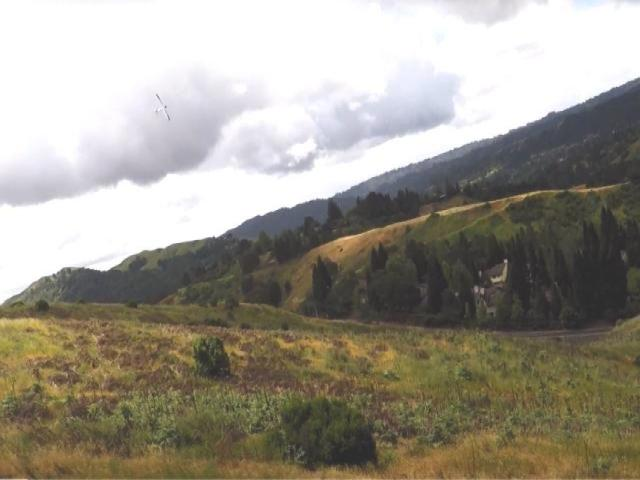iha: (153, 96, 171, 120)
